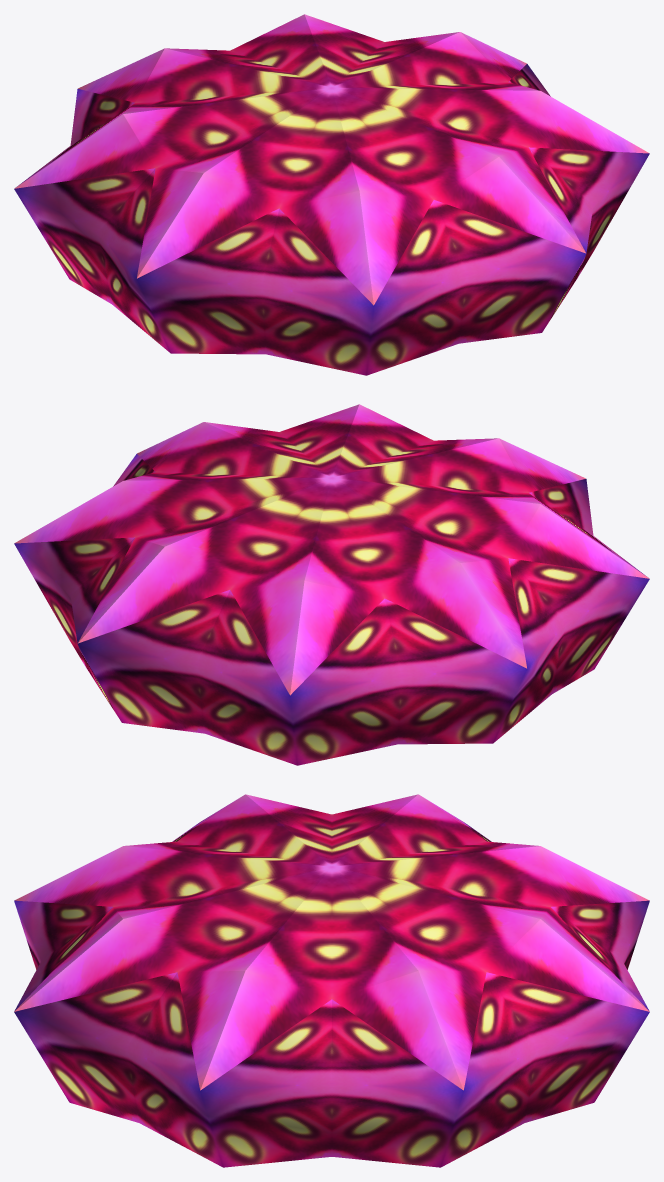
File: ufo-21.fbx
3 renders of one model, top to bottom at view 1: azimuth 30°, elevation 25°; view 2: azimuth 150°, elevation 25°; view 3: azimuth 270°, elevation 25°, orthographic. The views are drawn at different scales.
Visible parts, largest first — view 1: ufo-21; view 2: ufo-21; view 3: ufo-21.
Part boxes in pixels (x1,y1,x2,y2): ufo-21: (14, 14, 649, 375); ufo-21: (14, 404, 649, 765); ufo-21: (14, 794, 649, 1167).
Bounding box in the file's own units: 43.96 × 18.64 × 43.96.
